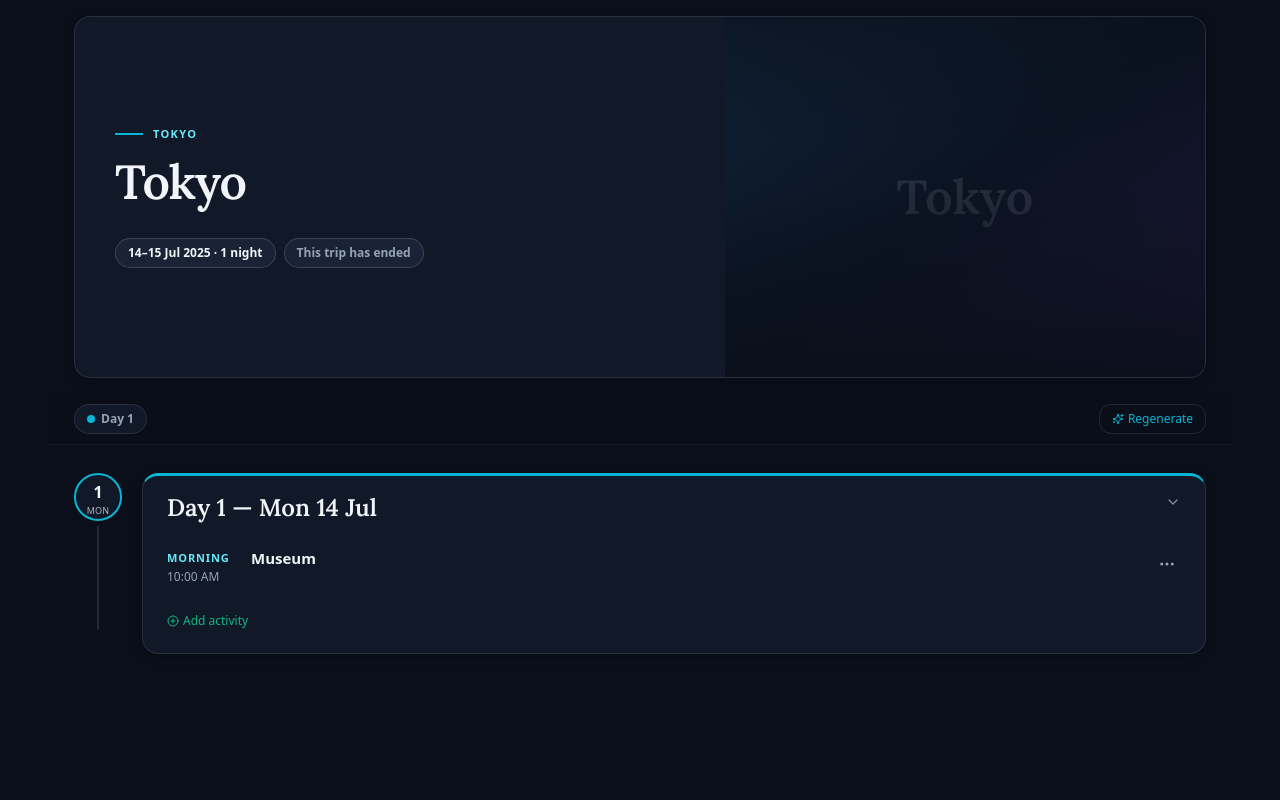
Test case: adding an activity on a phone › warns before creating a second activity at the same exact time
Click the button "Add activity".
click(208, 620)  # box [167, 604, 248, 636]
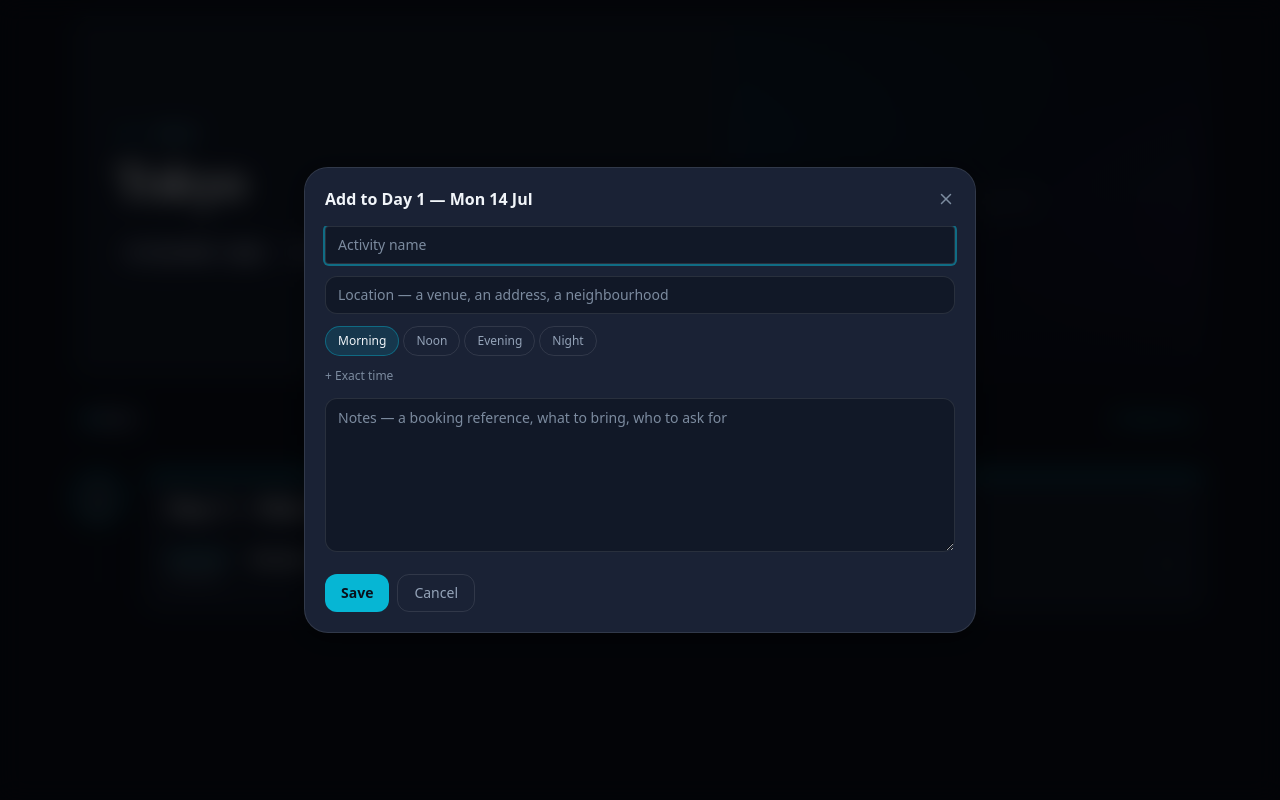
Click the button with test id "add-exact-time".
click(359, 376)  # box [325, 368, 393, 384]
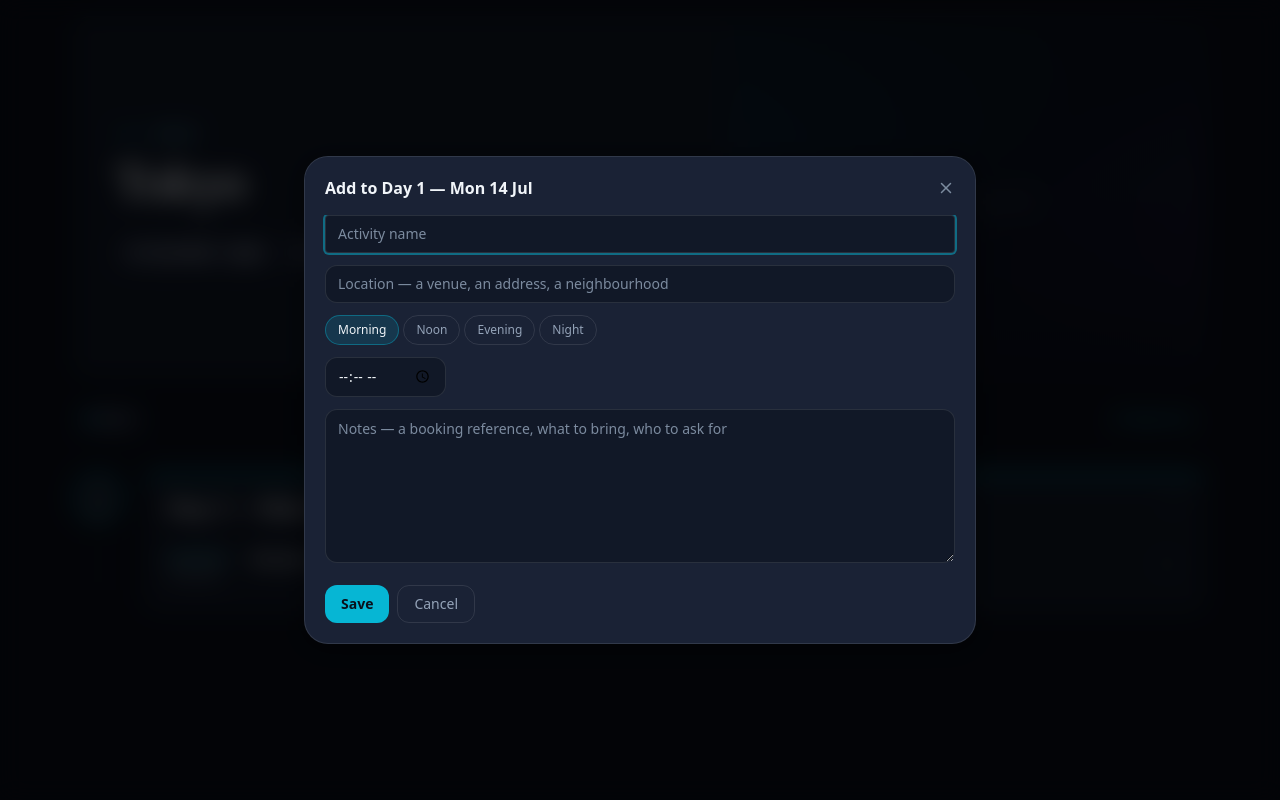
Type "10:00" into the time field named "Exact time".
click(385, 377); type("10:00")  # box [325, 357, 446, 397]
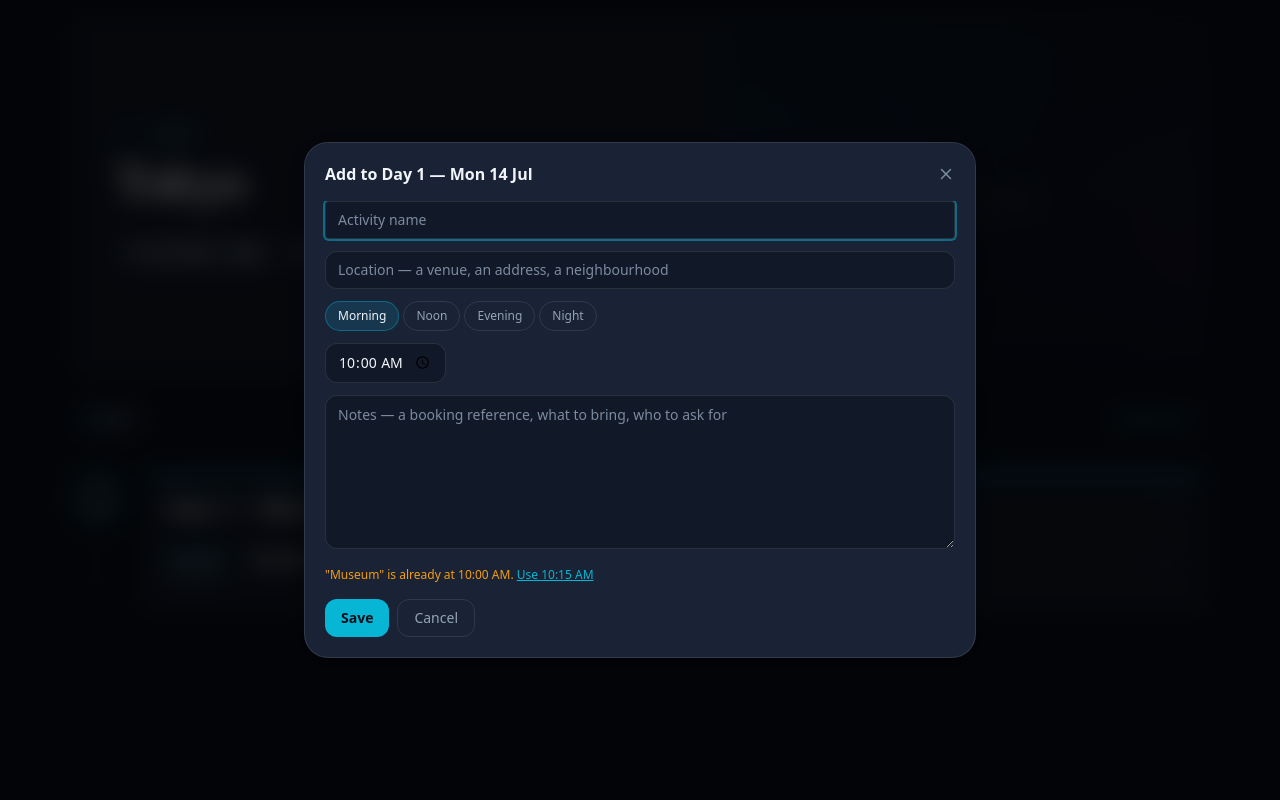
Expected: the message with test id "add-time-clash" shows "Museum", [325, 566, 514, 583]
